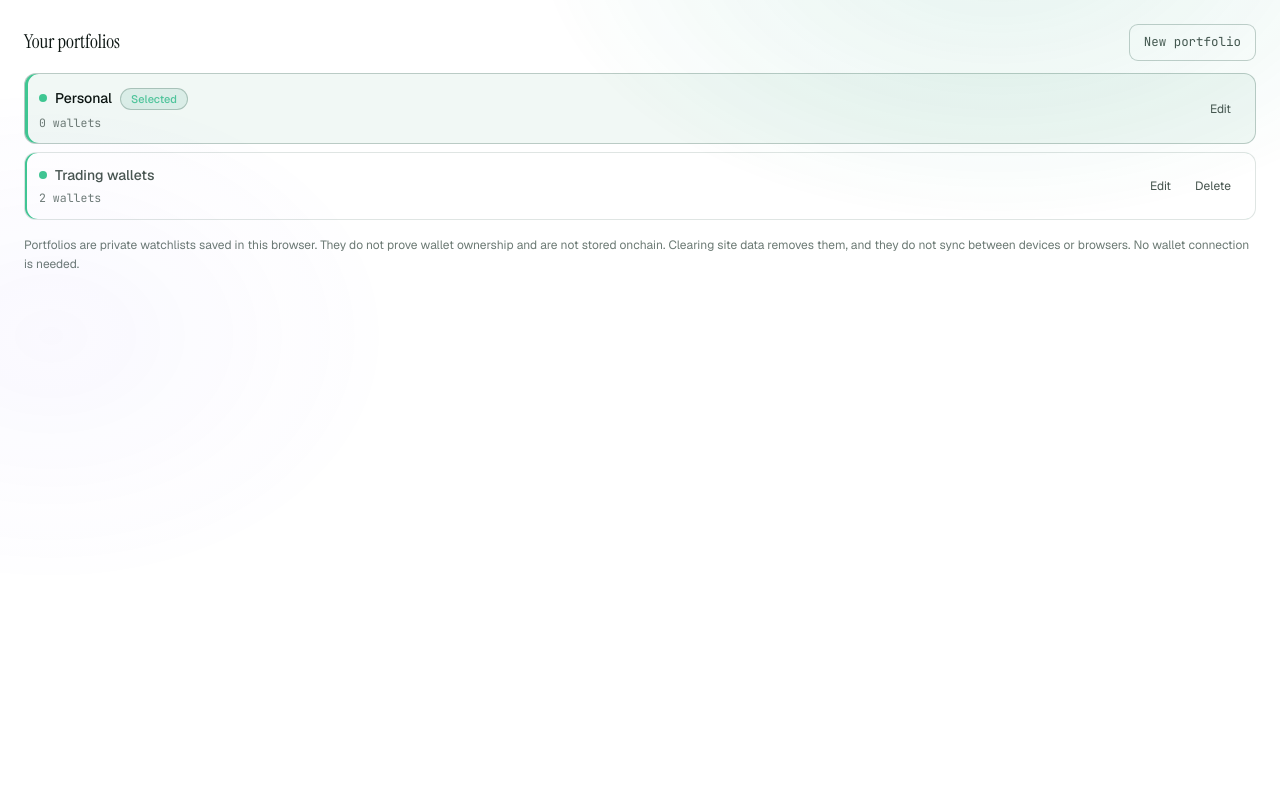
it: deleting › cancels cleanly
Click the button "Delete".
click(1213, 186)  # box 1185,172 -> 1241,200
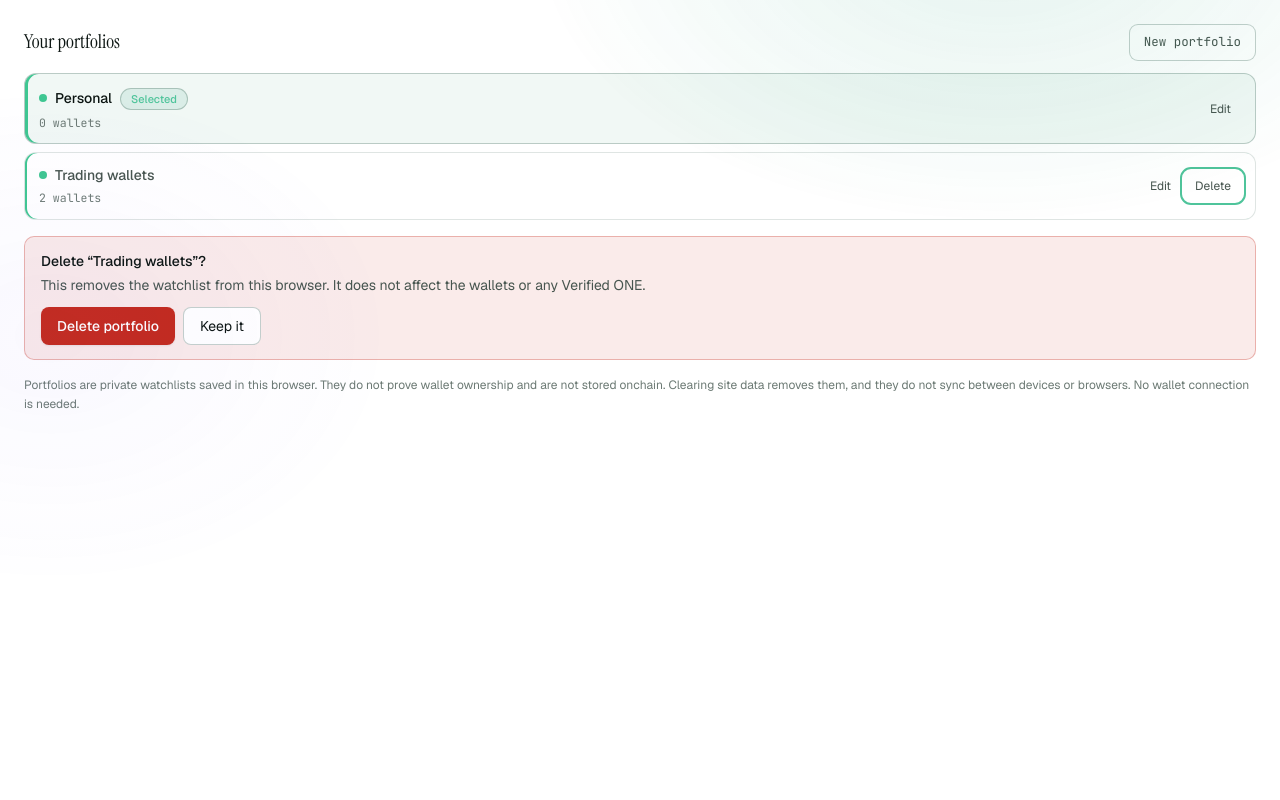
Click the button "Keep it".
click(222, 326)  # box 183,307 -> 261,345
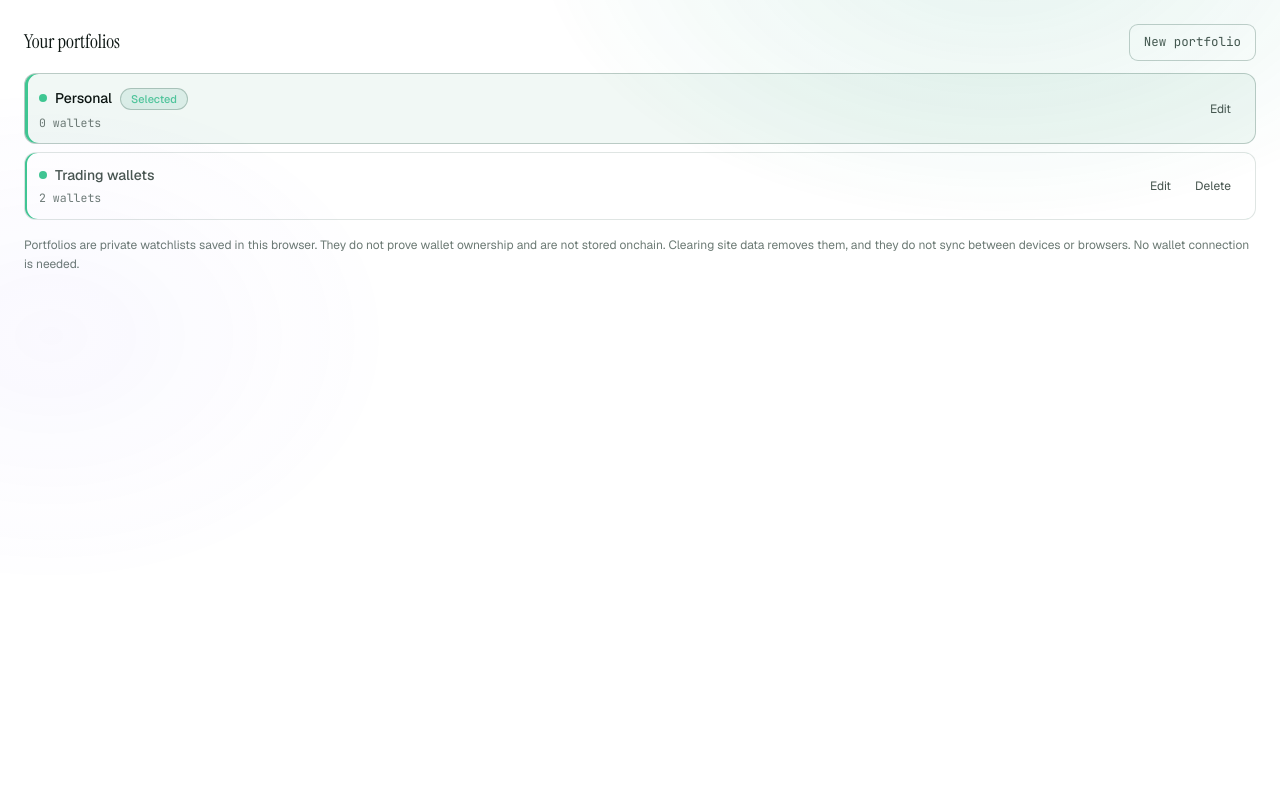
Now the dialog is gone
